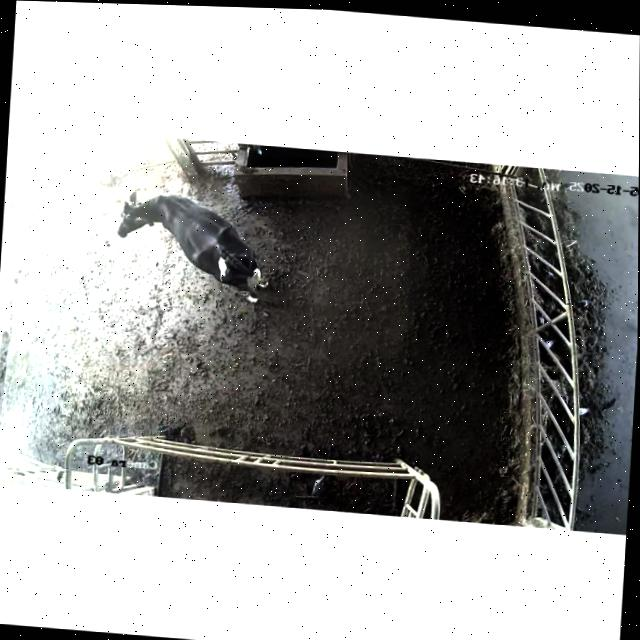stand: (101, 182, 285, 311)
